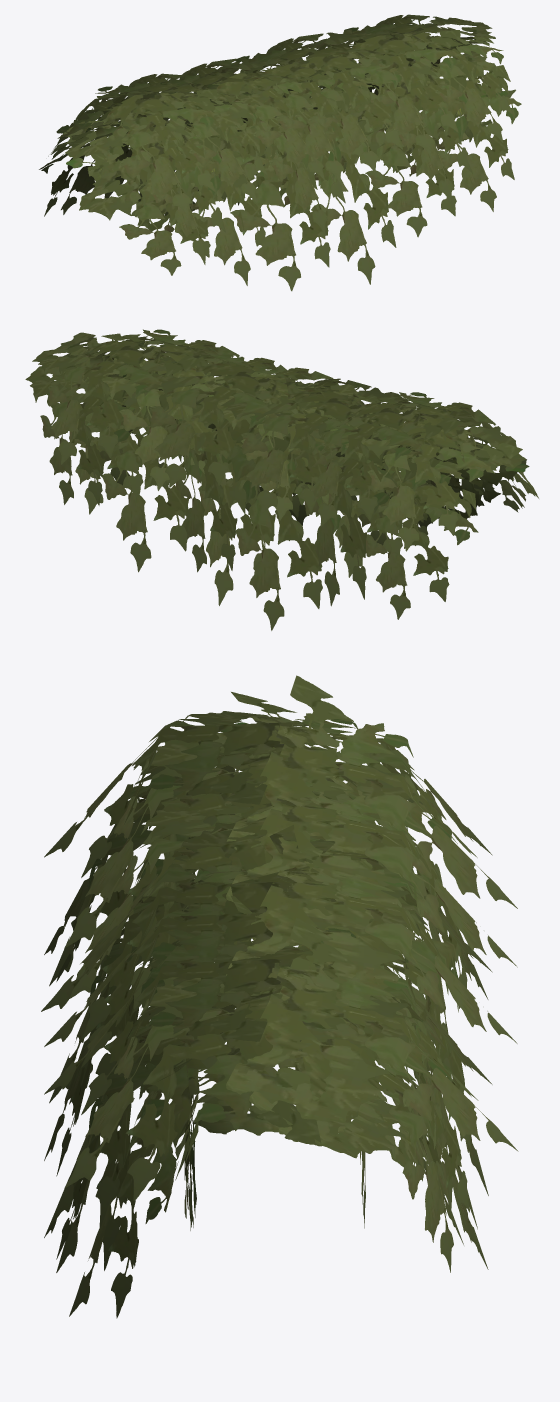
3 views of the same model, one above another, from view 1: azimuth 30°, elevation 25°; view 2: azimuth 150°, elevation 25°; view 3: azimuth 270°, elevation 25° (orthographic). The views are drawn at different scales.
Visible parts, largest first — view 1: body0_model0_lod0_mesh0; view 2: body0_model0_lod0_mesh0; view 3: body0_model0_lod0_mesh0.
Part boxes in pixels (bbox=[...]): body0_model0_lod0_mesh0: bbox=[39, 14, 521, 291]; body0_model0_lod0_mesh0: bbox=[25, 329, 538, 630]; body0_model0_lod0_mesh0: bbox=[41, 675, 518, 1318].
Size of the model in its own units: 115 by 46.98 by 52.14.
1 material, 1 textured.
